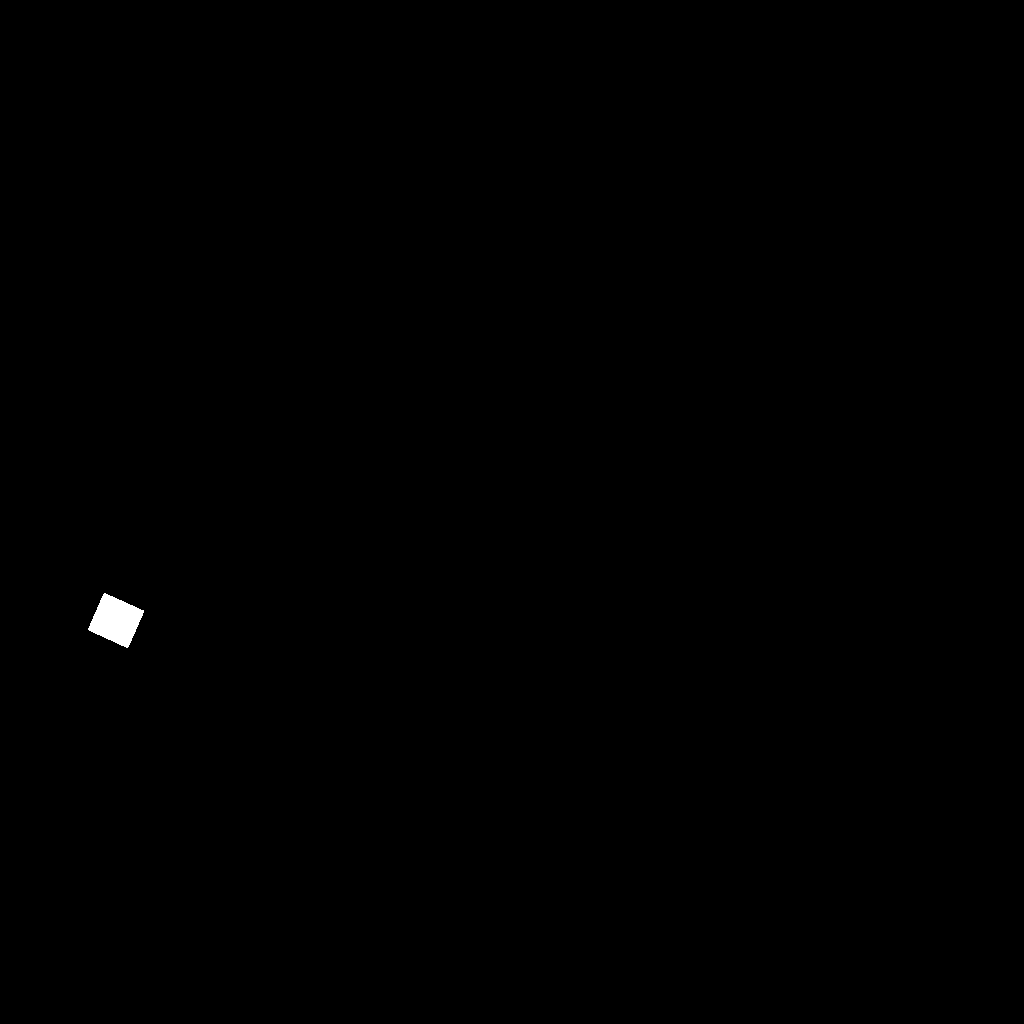building: (88, 593, 145, 649)
